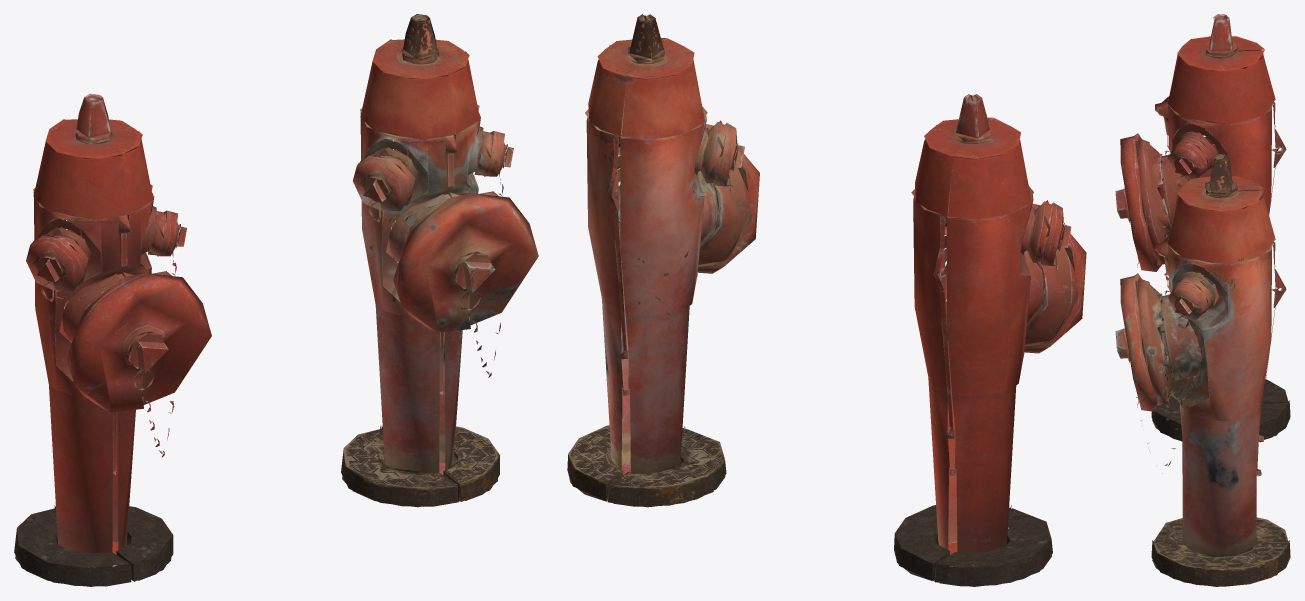
The model's file is fire_hydrant_1k.gltf.
3 views of the same model, side by side, from view 1: azimuth 30°, elevation 25°; view 2: azimuth 150°, elevation 25°; view 3: azimuth 270°, elevation 25° (orthographic). The views are drawn at different scales.
Visible parts, largest first — view 1: fire_hydrant; view 2: fire_hydrant; view 3: fire_hydrant.
Part boxes in pixels (bbox=[...]): fire_hydrant: bbox=[14, 14, 538, 586]; fire_hydrant: bbox=[567, 14, 1086, 586]; fire_hydrant: bbox=[1115, 14, 1290, 586].
Bounding box in the file's own units: 0.8732 × 0.8004 × 0.3173.
Materials: 2 (2 with a texture image).
